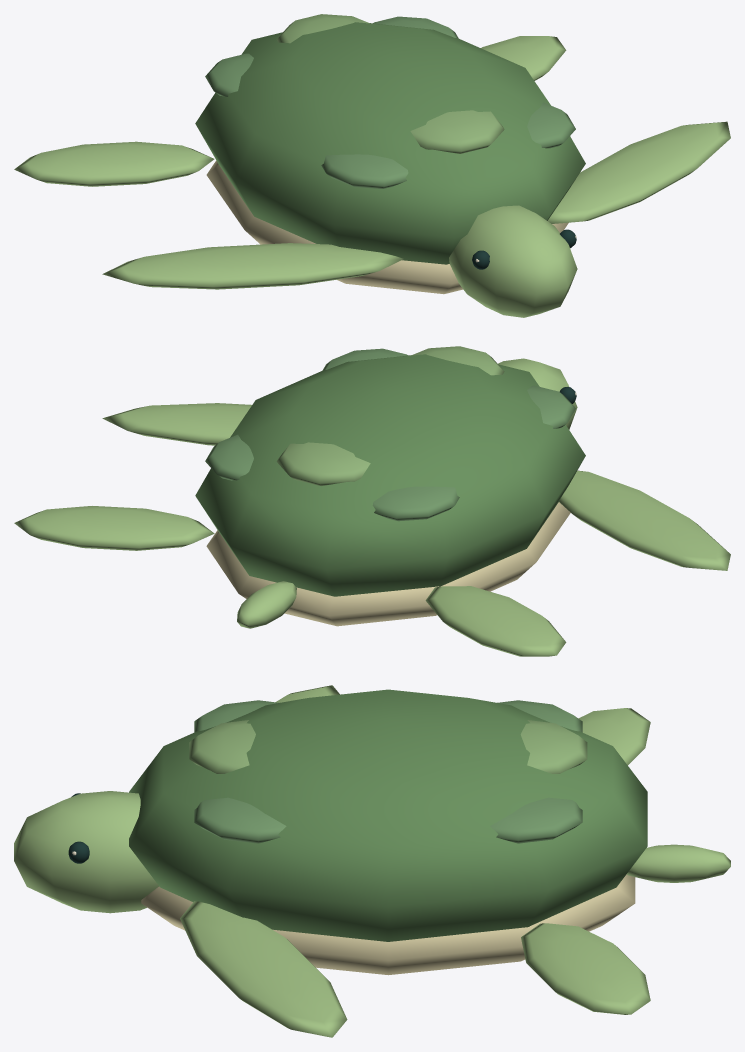
Rendered from ocean-sea-turtle-1.glb.
The picture shows the model from 3 angles, top to bottom: view 1: azimuth 30°, elevation 25°; view 2: azimuth 150°, elevation 25°; view 3: azimuth 270°, elevation 25°; orthographic projection. The views are drawn at different scales.
Parts seen in each view (by area): view 1: ocean-sea-turtle-1, Flipper0, Flipper2, Flipper1, Flipper3; view 2: ocean-sea-turtle-1, Flipper0, Flipper3, Flipper1, Flipper2; view 3: ocean-sea-turtle-1, Flipper2, Flipper3, Flipper1.
Part boxes in pixels (x1=…): ocean-sea-turtle-1: x1=195, y1=14, x2=585, y2=317; Flipper0: x1=102, y1=243, x2=403, y2=289; Flipper2: x1=548, y1=121, x2=730, y2=223; Flipper1: x1=14, y1=141, x2=214, y2=186; Flipper3: x1=481, y1=36, x2=566, y2=80; ocean-sea-turtle-1: x1=195, y1=346, x2=585, y2=628; Flipper0: x1=559, y1=470, x2=730, y2=570; Flipper3: x1=14, y1=506, x2=214, y2=550; Flipper1: x1=425, y1=586, x2=566, y2=656; Flipper2: x1=102, y1=403, x2=251, y2=445; ocean-sea-turtle-1: x1=14, y1=689, x2=730, y2=975; Flipper2: x1=180, y1=901, x2=347, y2=1037; Flipper3: x1=521, y1=923, x2=650, y2=1014; Flipper1: x1=578, y1=708, x2=650, y2=765.
Bounding box in the file's own units: 3.21 × 0.89 × 2.76.
